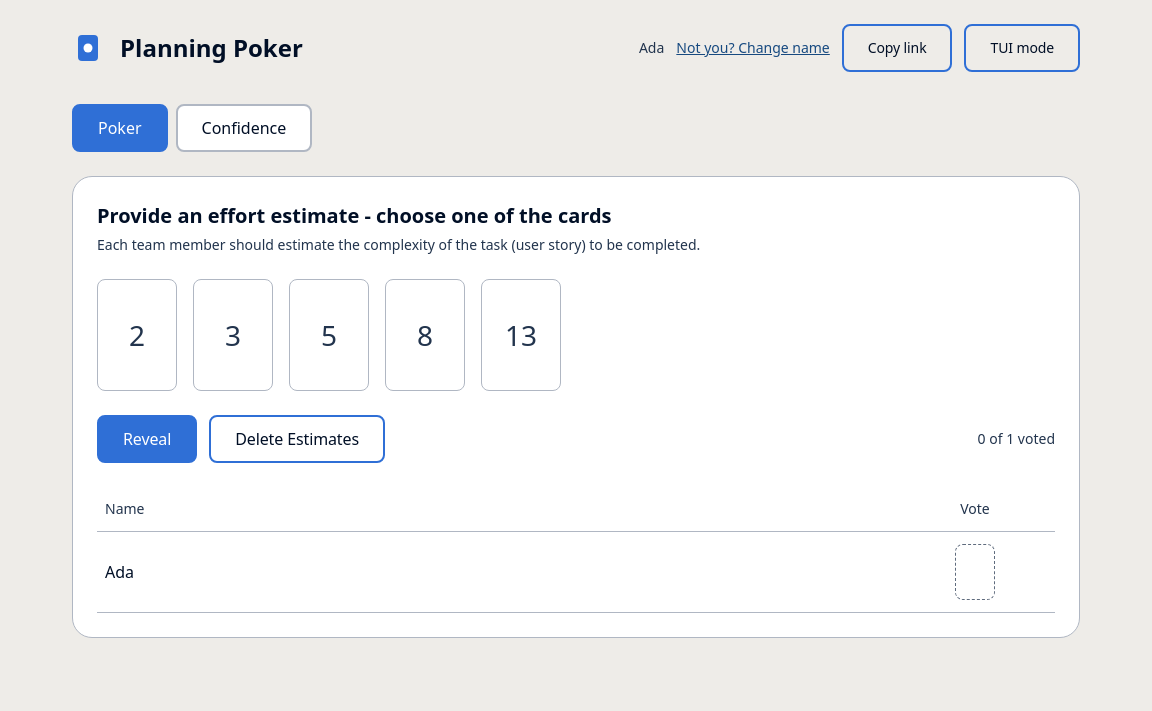
Scenario: App › shows the confidence deck and the 9.2 average after reveal
The width and height of the screenshot is (1152, 711).
Click the tab "Confidence" at (244, 128), box [176,104,312,152]
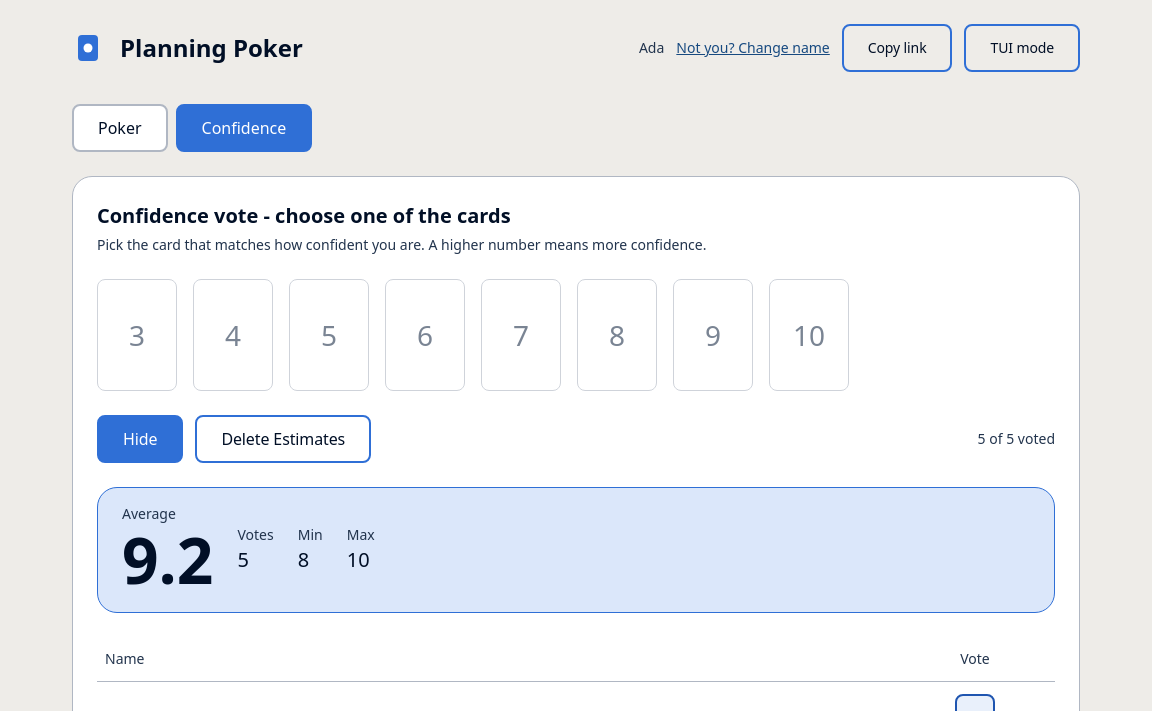
Check: the text with test id "average" reads "9.2", box [122,516,214,603]
Check: the button "Hide" is shown, box [97,415,183,463]
